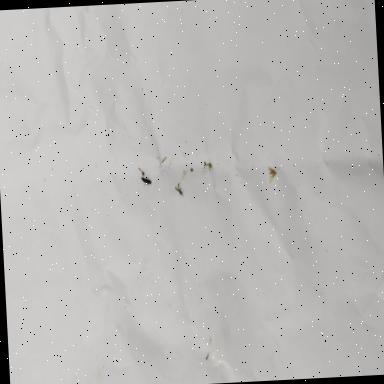pbw: (266, 166, 278, 184)
